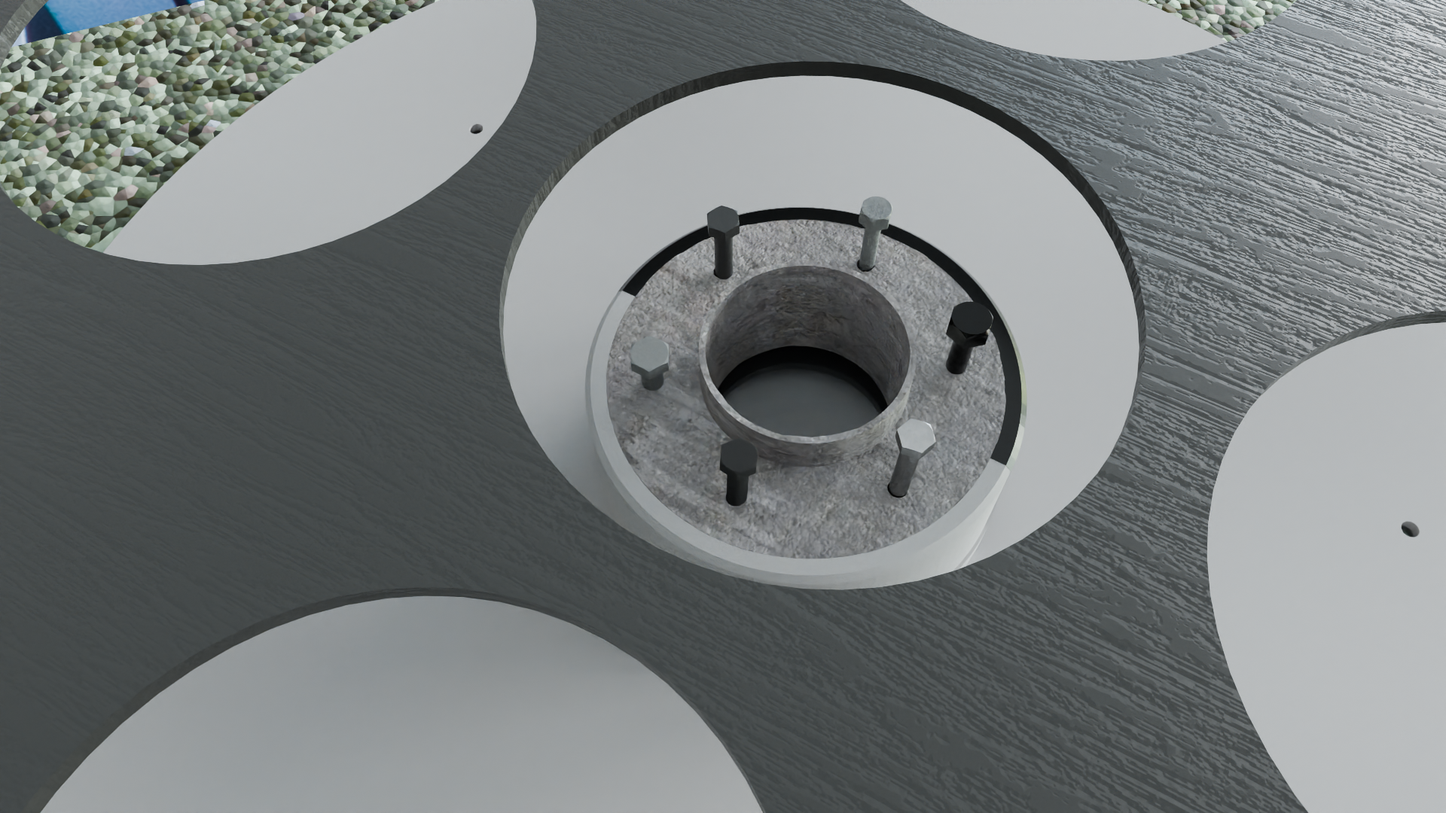bolt: (949, 302, 993, 339), (720, 437, 758, 474), (630, 336, 669, 372), (897, 419, 936, 453), (860, 196, 893, 223), (707, 206, 740, 233)
